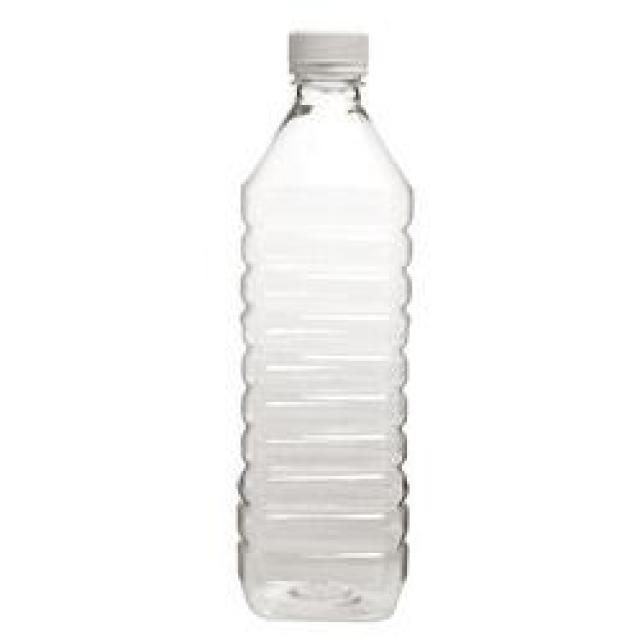bottle: (227, 25, 418, 632)
